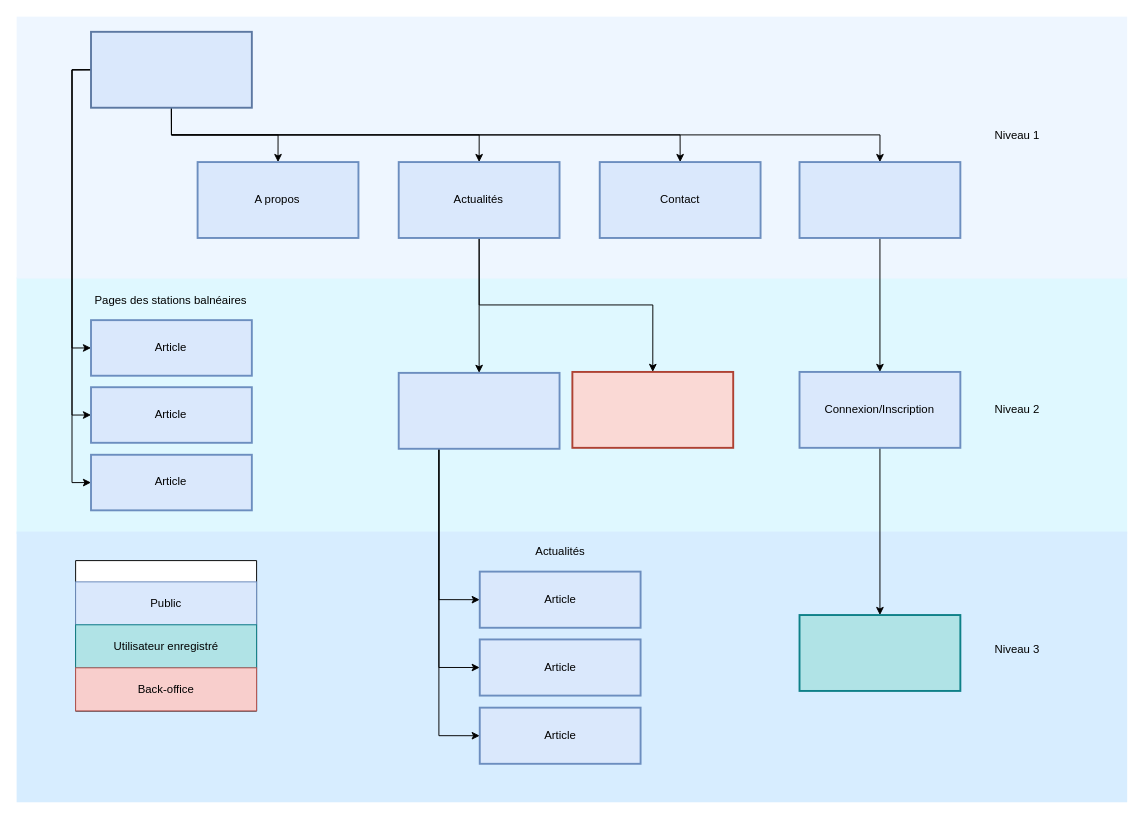
This 1143x818 diagram has some shape labels left out. The shapes that lost their labels are listed below. From the top down, each one's box as (x1, y1, x2, y2) in pixels, then its label:
(90, 30, 252, 108): Accueil (Carte interactive)
(798, 161, 961, 238): Connexion
(397, 371, 560, 449): Liste des actualités
(571, 370, 734, 448): Rédaction d'article
(75, 560, 257, 711): Légende
(798, 614, 961, 691): Profil utilisateur
